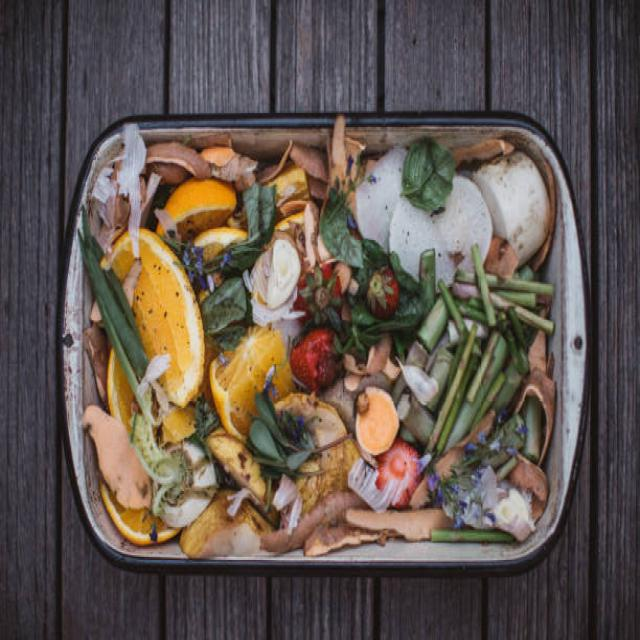paper: (107, 233, 215, 414), (394, 170, 506, 308), (198, 323, 286, 442), (155, 176, 258, 260), (344, 381, 412, 458)
